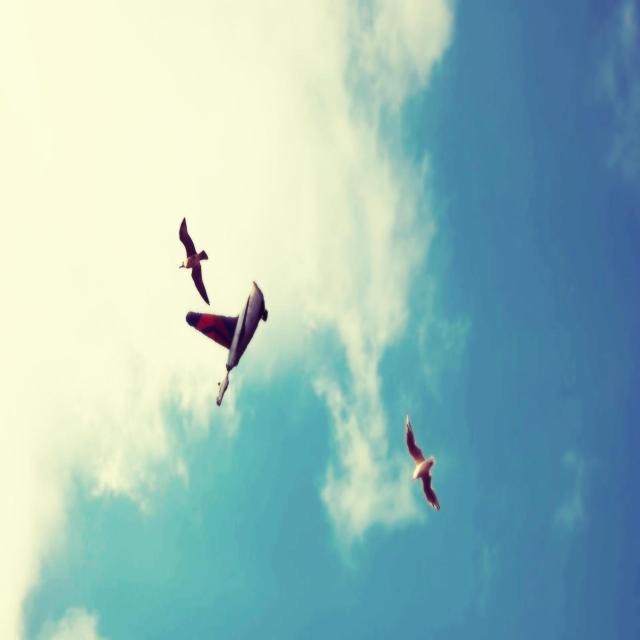airplane: (185, 279, 268, 407)
